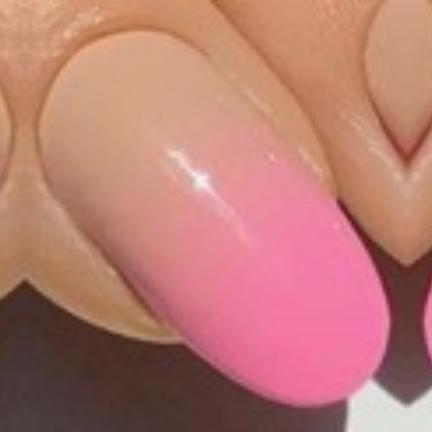Nail: (36, 29, 392, 408), (0, 92, 12, 181), (422, 283, 432, 367)
